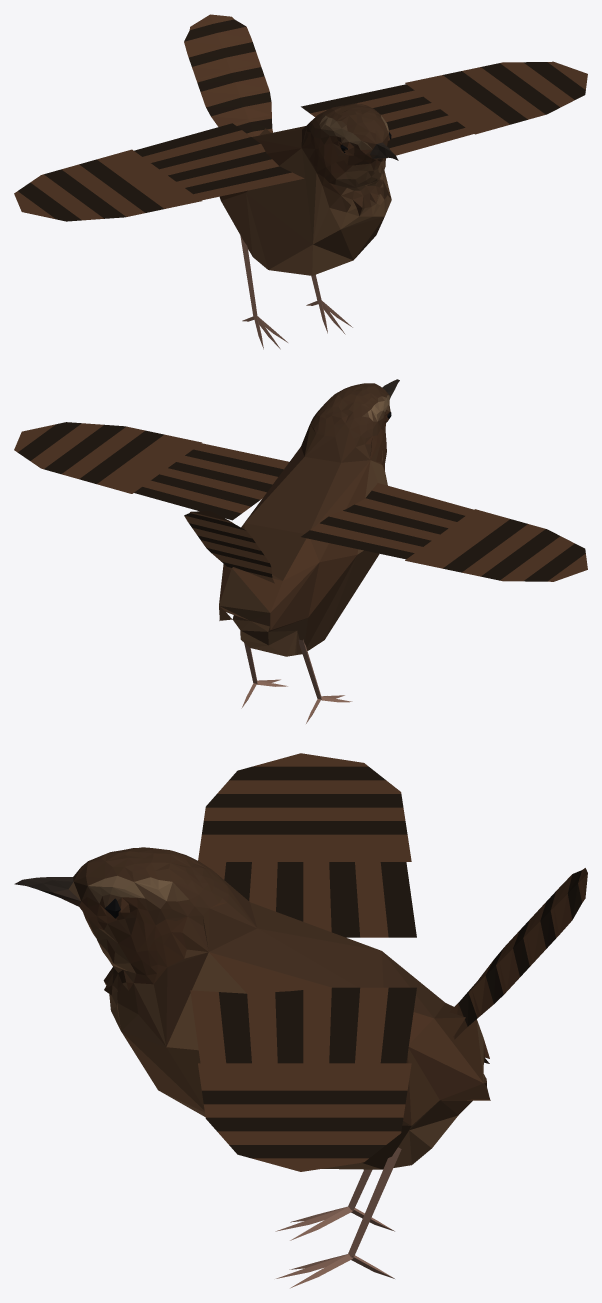
Rendered from pacific_wren.glb.
3 renders of one model, top to bottom at view 1: azimuth 30°, elevation 25°; view 2: azimuth 150°, elevation 25°; view 3: azimuth 270°, elevation 25°, orthographic. The views are drawn at different scales.
Parts seen in each view (by area): view 1: lod0; view 2: lod0; view 3: lod0.
Boxes of the visible parts, box(x1,y1,x2,y2) form: lod0: box(14, 14, 587, 349); lod0: box(14, 379, 587, 723); lod0: box(14, 753, 587, 1288).
Size of what is drawn, in the model's own units: 0.15 by 0.067 by 0.0869.
